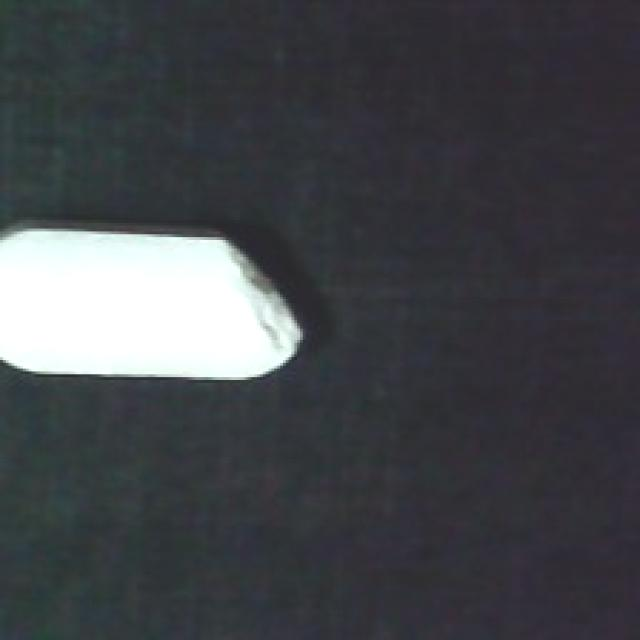defected: (0, 211, 311, 394)
